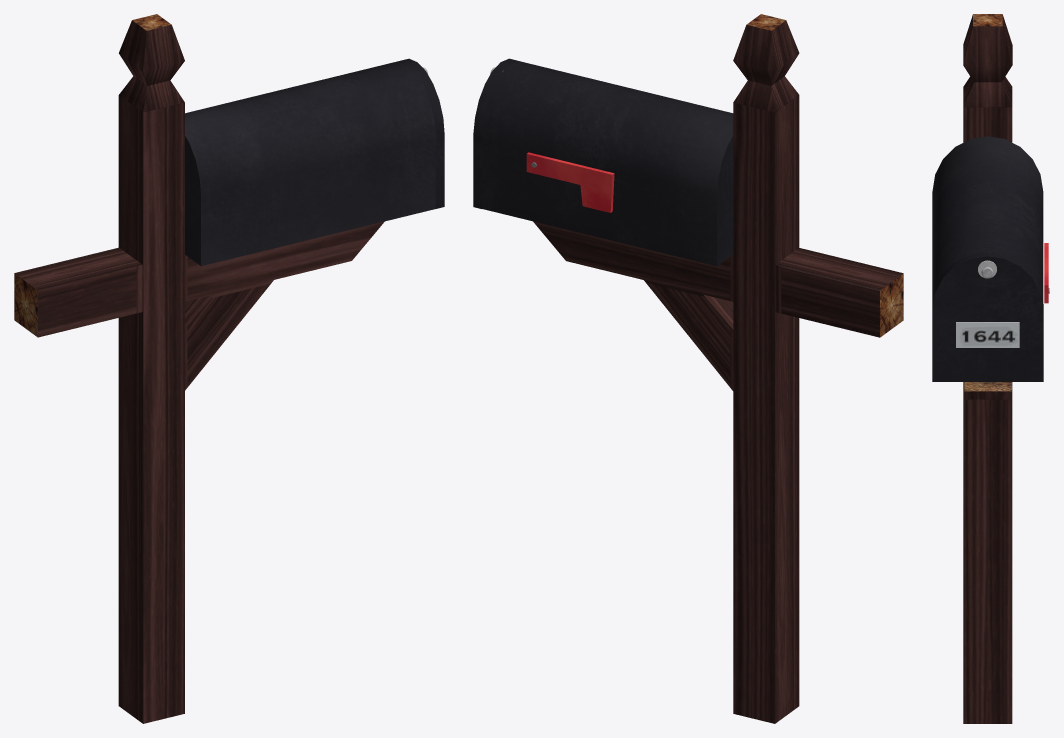
The model's file is mailbox_project_villalobos.glb.
The picture shows the model from 3 angles, left to right: view 1: azimuth 30°, elevation 25°; view 2: azimuth 150°, elevation 25°; view 3: azimuth 270°, elevation 25°; orthographic projection.
Visible parts, largest first — view 1: pasted__pCube3; view 2: pasted__pCube3; view 3: pasted__pCube3.
Part boxes in pixels (box(x1,y1,x2,y2)): pasted__pCube3: box(14, 14, 444, 723); pasted__pCube3: box(473, 14, 903, 723); pasted__pCube3: box(932, 14, 1049, 723).
Size of the model in its own units: 31.65 by 52.07 by 7.97.
1 material, 1 textured.
